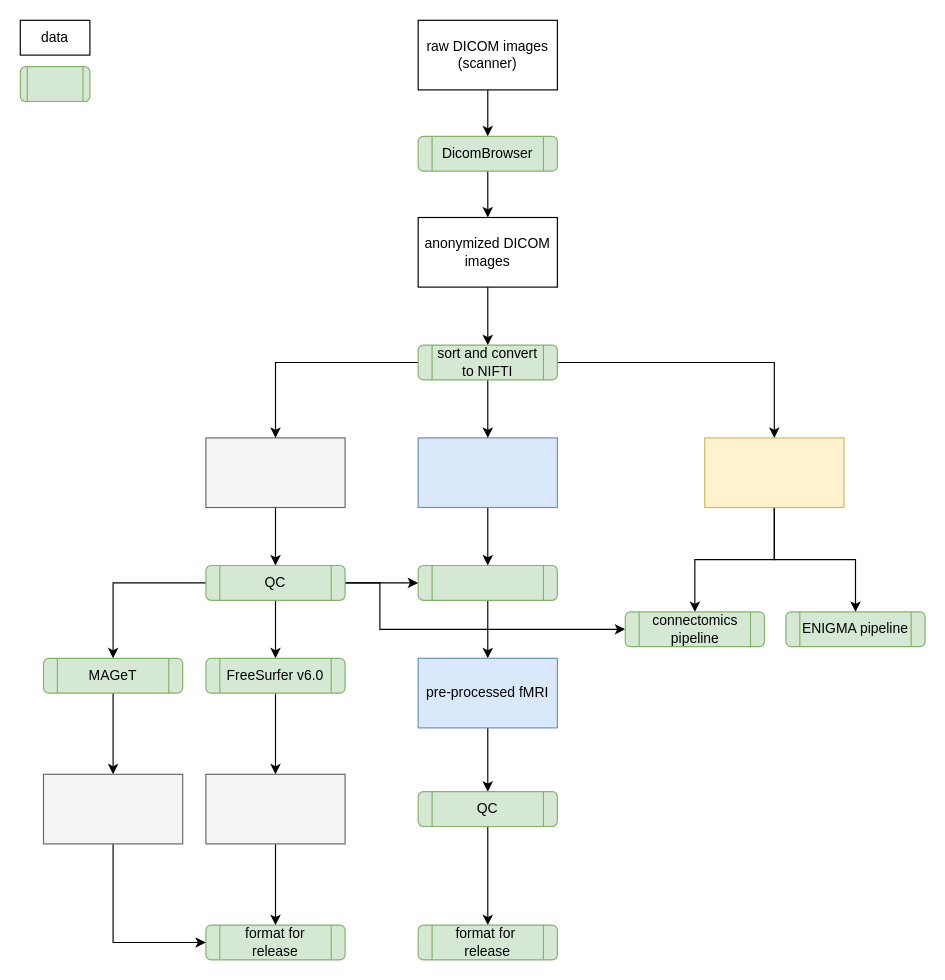
This 945x980 diagram has some shape labels left out. Each missing label, with the box of its shape:
dMRI (diffusion): (704, 437, 844, 507)
fMRI (task-based): (417, 437, 557, 507)
process: (19, 66, 90, 102)
sMRI (T1 anatomical): (205, 437, 345, 507)
SPM12 pipeline: (417, 564, 557, 600)
various volumetric measures: (42, 773, 183, 844)
vertex- and ROI-based measures: (205, 773, 345, 844)
